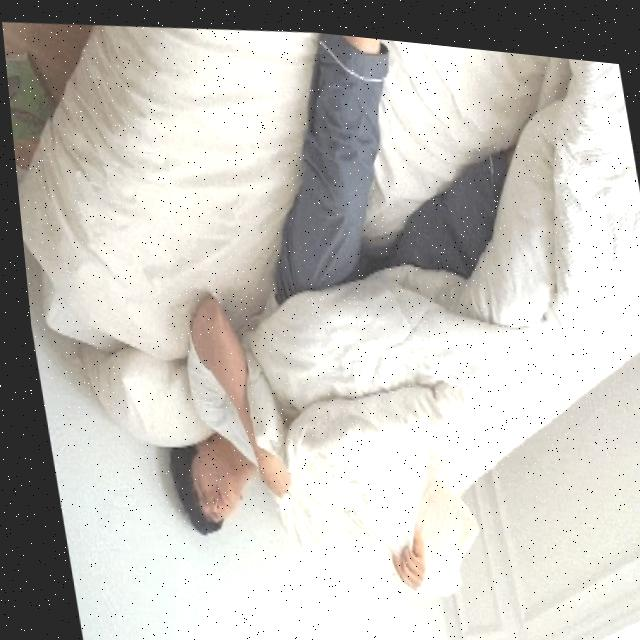sleeping-person: (83, 7, 640, 631)
